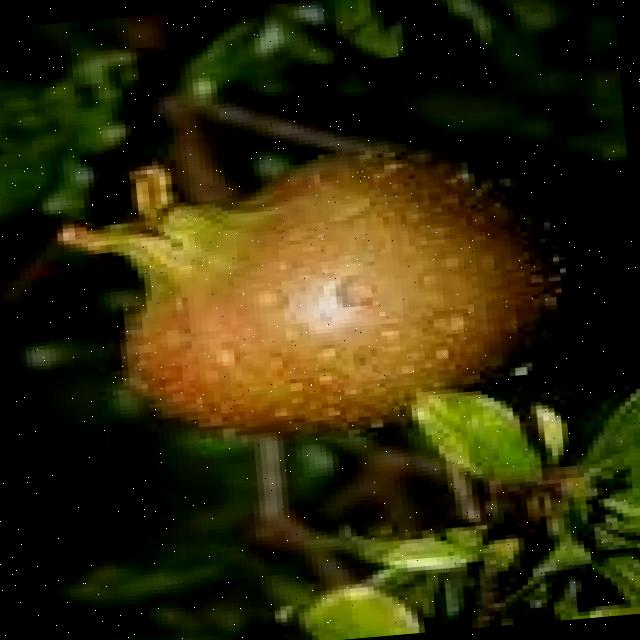Unripe: (55, 126, 578, 452)
